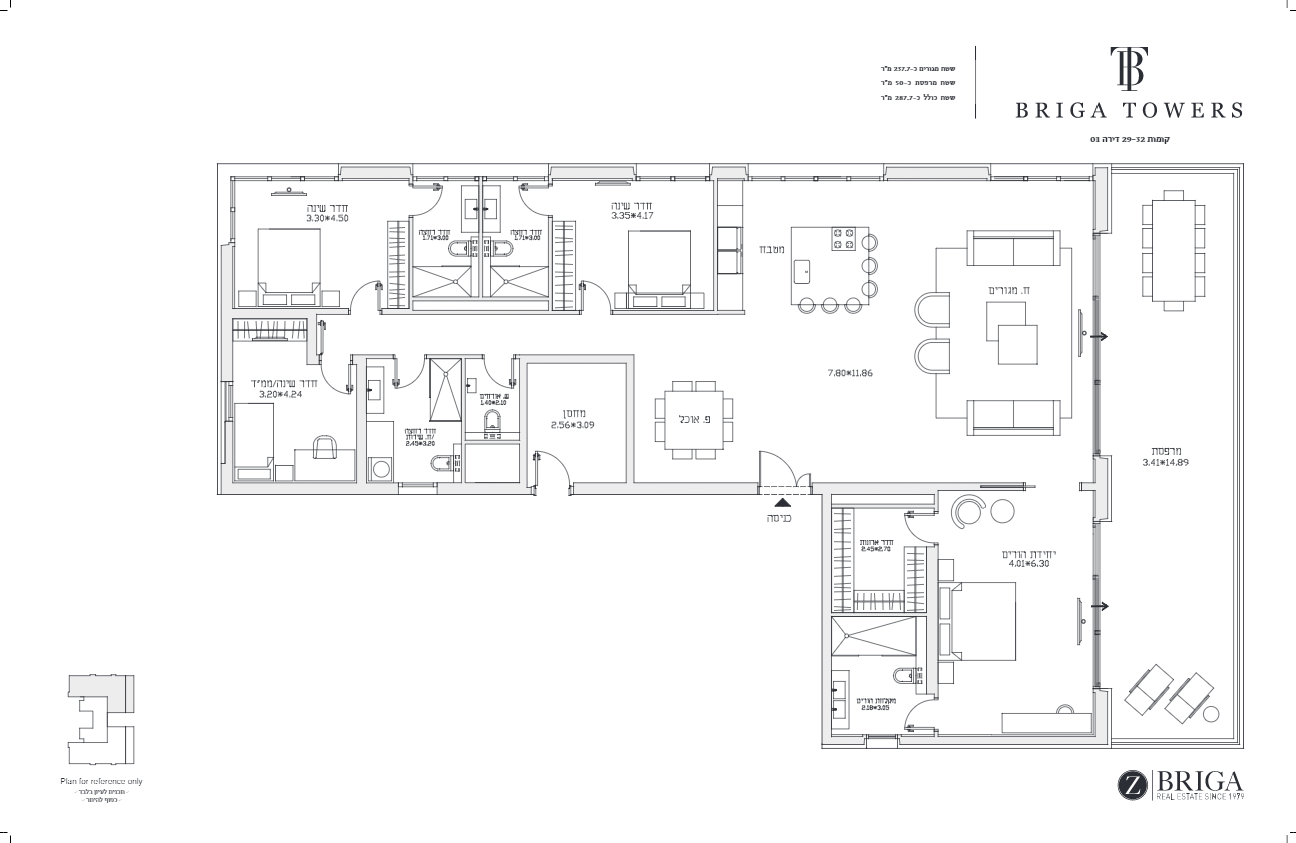door: (528, 434, 577, 478), (748, 434, 797, 478), (577, 275, 614, 313), (348, 266, 385, 304), (318, 360, 355, 398), (419, 180, 452, 216), (513, 179, 546, 215), (902, 507, 935, 543), (903, 695, 936, 731)
wall: (580, 478, 737, 495), (220, 483, 399, 496), (816, 481, 971, 491)
